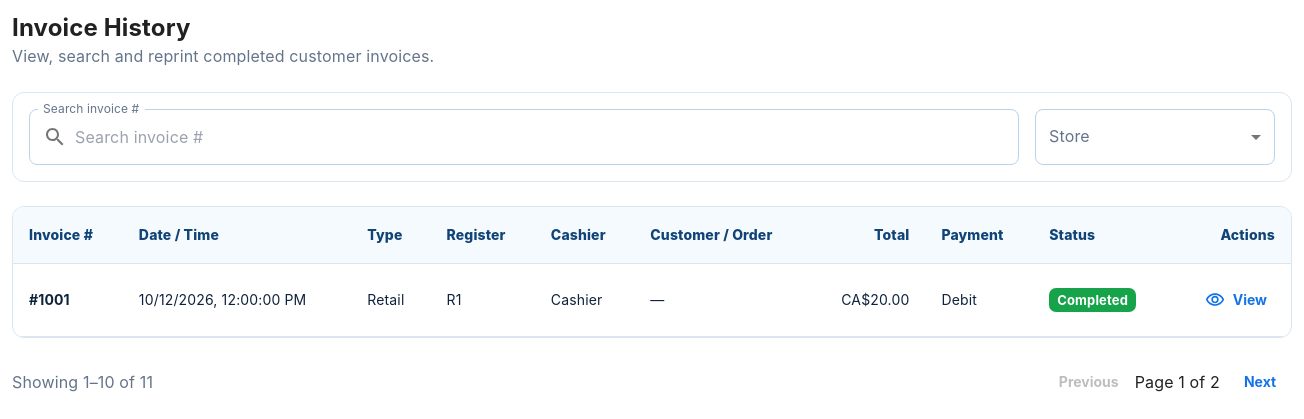
Test case: Invoice History › loads the newest ten server-side and requests the next page
Expected: the text "#1001" is shown, [13,264,123,336]
Click the button "Next" at {"x": 1260, "y": 382}, box [1228,362,1292,402]
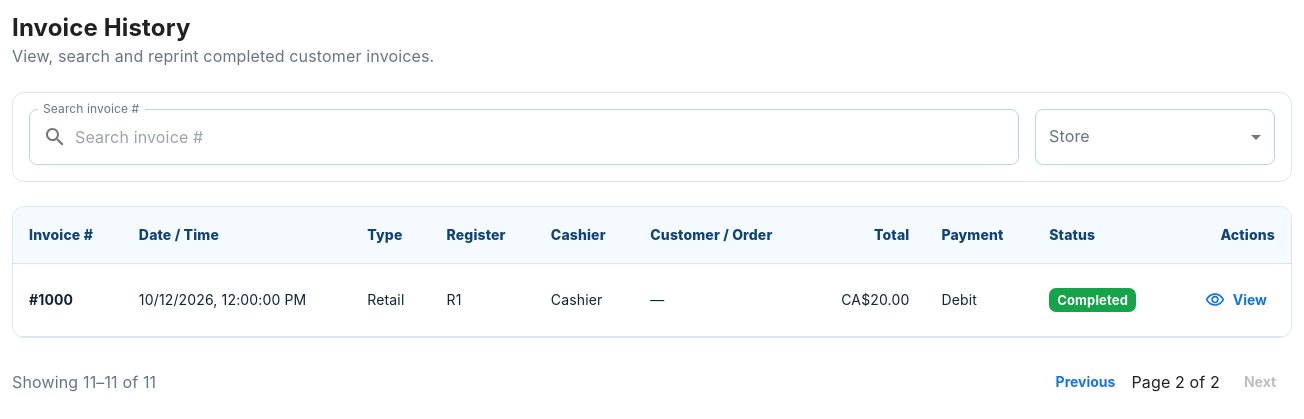
Now the text "#1000" is shown, box [13,264,123,336]
Now the button "Next" is disabled, box [1228,362,1292,402]
